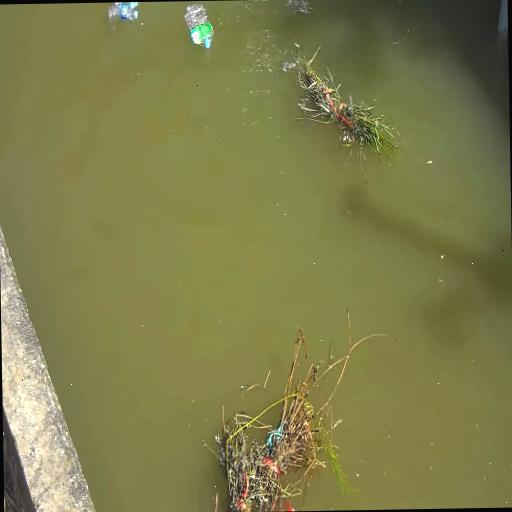plastic: (184, 4, 214, 49), (108, 4, 137, 22), (125, 2, 138, 9)
twig: (212, 309, 390, 512), (284, 47, 398, 157)
